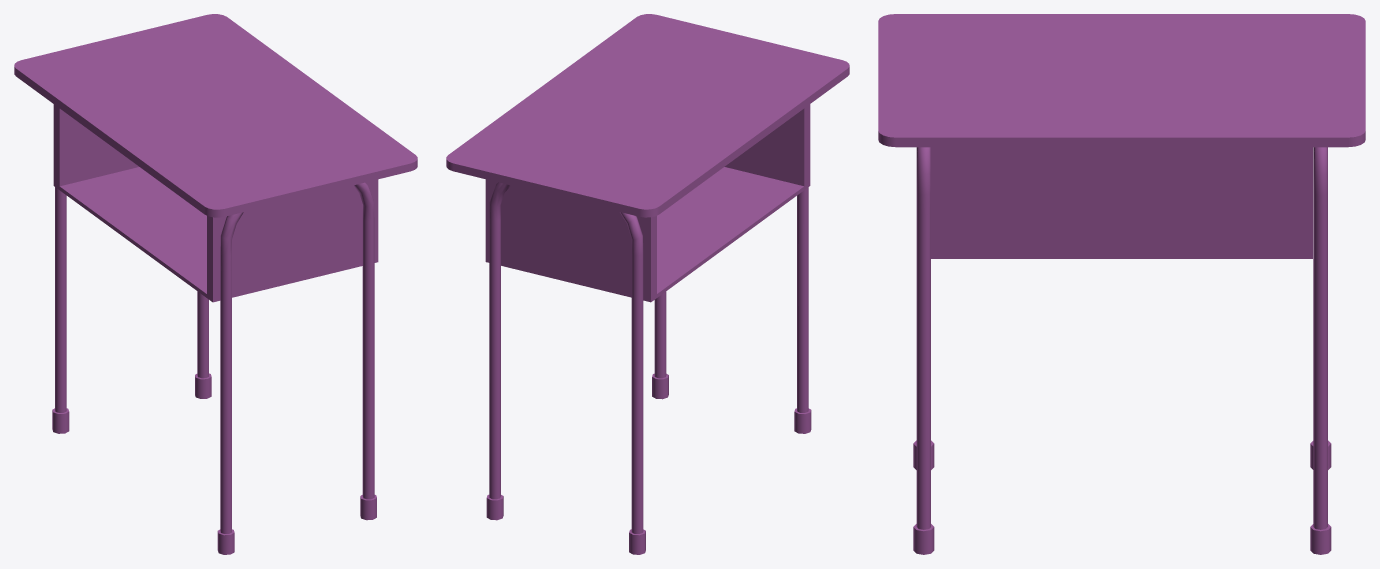
The model's file is Pupitre Individual.fbx.
The picture shows the model from 3 angles, left to right: view 1: azimuth 30°, elevation 25°; view 2: azimuth 150°, elevation 25°; view 3: azimuth 270°, elevation 25°; orthographic projection. The views are drawn at different scales.
Parts seen in each view (by area): view 1: Pupitre_Individual; view 2: Pupitre_Individual; view 3: Pupitre_Individual.
Part boxes in pixels (<box>): Pupitre_Individual: <box>14,14,417,554</box>; Pupitre_Individual: <box>446,14,849,554</box>; Pupitre_Individual: <box>878,14,1365,554</box>.
Bounding box in the file's own units: 0.6 × 0.9815 × 1.
